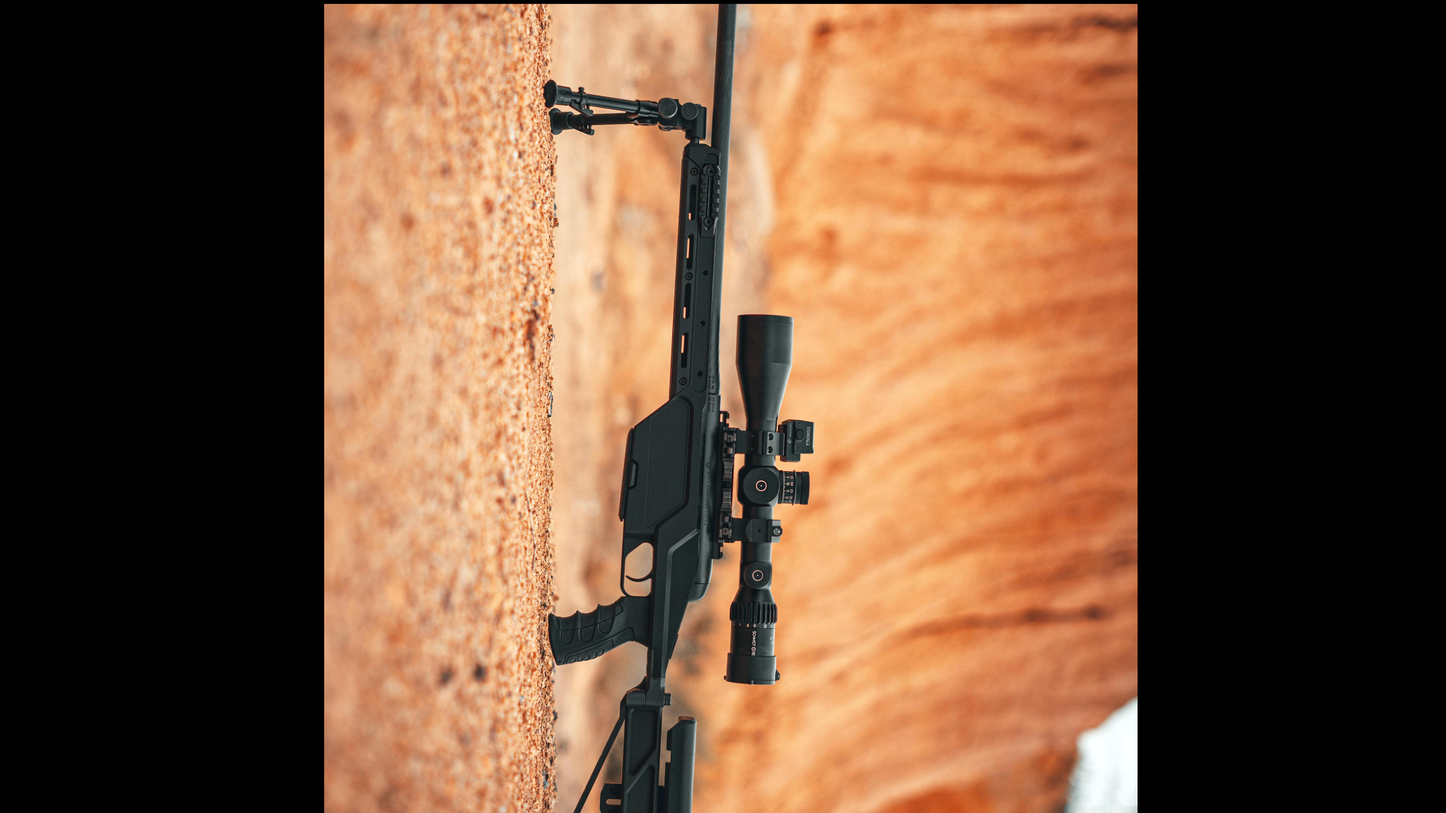larga: (542, 4, 819, 813)
